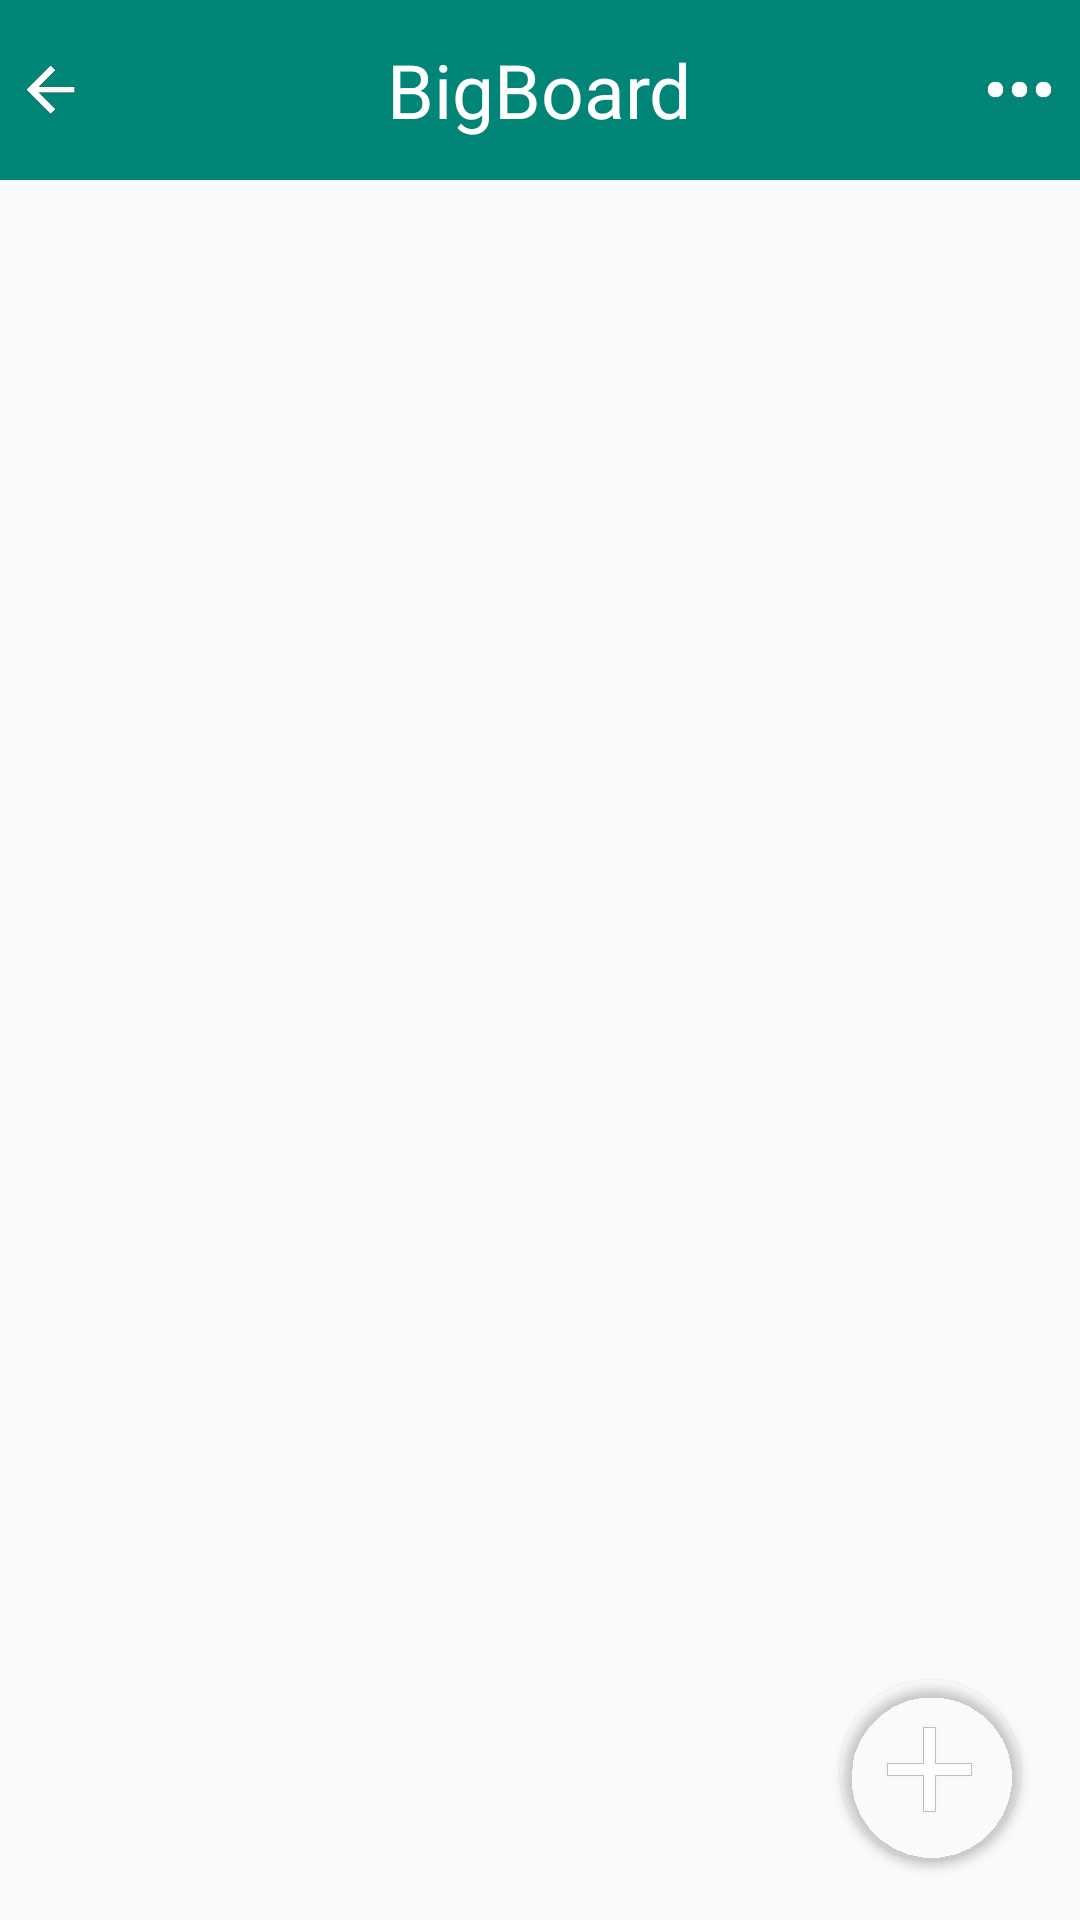

Locate icon controls on the screen. Image size 1080px×1920px, boxes as (x1, y1, x2, y2).
back: (26, 65, 75, 114)
more: (987, 81, 1052, 98)
plus save: (858, 1698, 1002, 1842)
